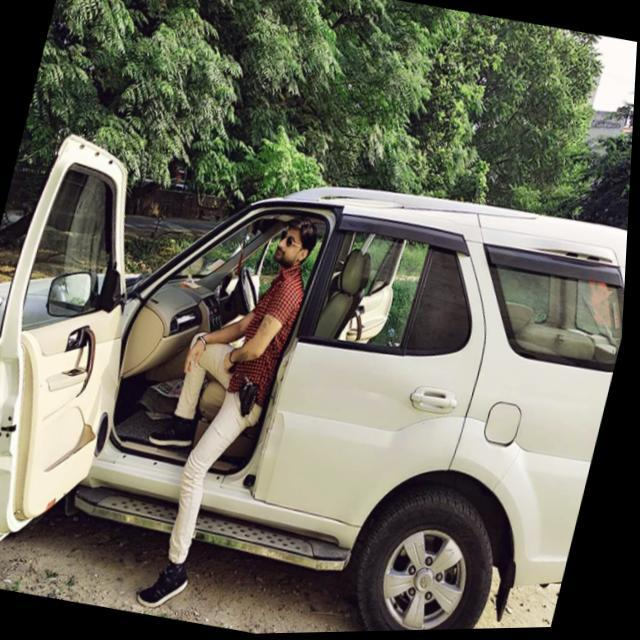weapon: (230, 370, 268, 422)
